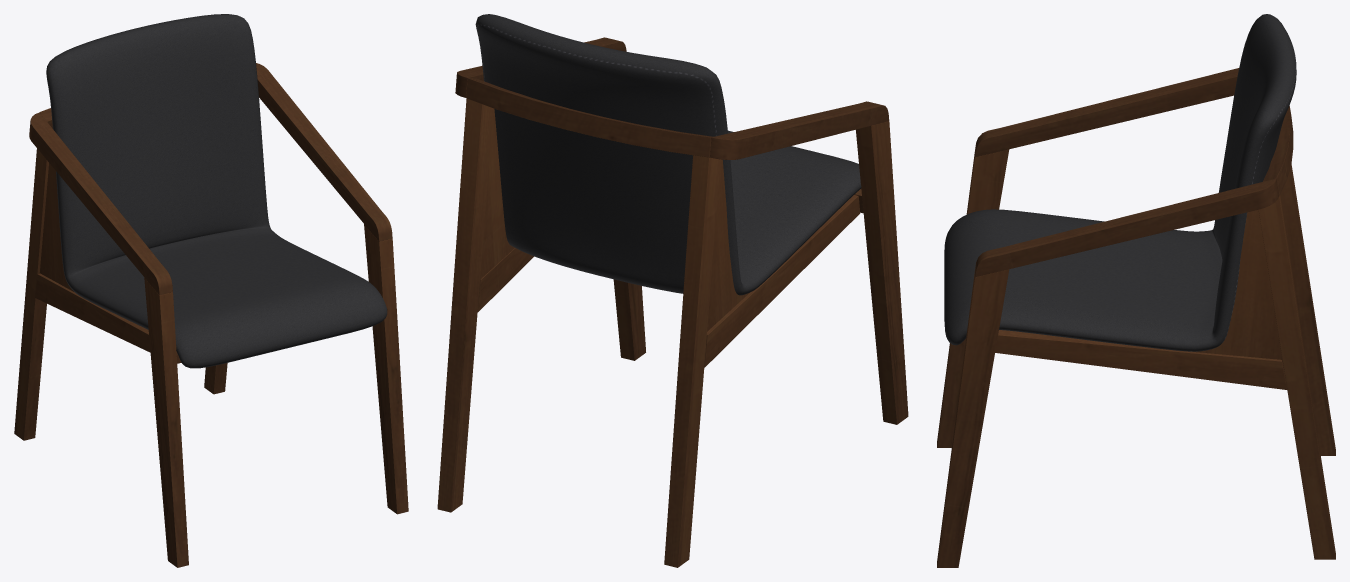
Rendered from chair_24.001.fbx.
3 views of the same model, side by side, from view 1: azimuth 30°, elevation 25°; view 2: azimuth 150°, elevation 25°; view 3: azimuth 270°, elevation 25° (orthographic). The views are drawn at different scales.
Parts seen in each view (by area): view 1: chair_24.001; view 2: chair_24.001; view 3: chair_24.001.
Part boxes in pixels (box(x1,y1,x2,y2)): chair_24.001: box(14, 14, 408, 567); chair_24.001: box(437, 14, 908, 567); chair_24.001: box(937, 14, 1335, 567).
Bounding box in the file's own units: 49.33 × 79.62 × 64.77.
Materials: 1 (1 with a texture image).
